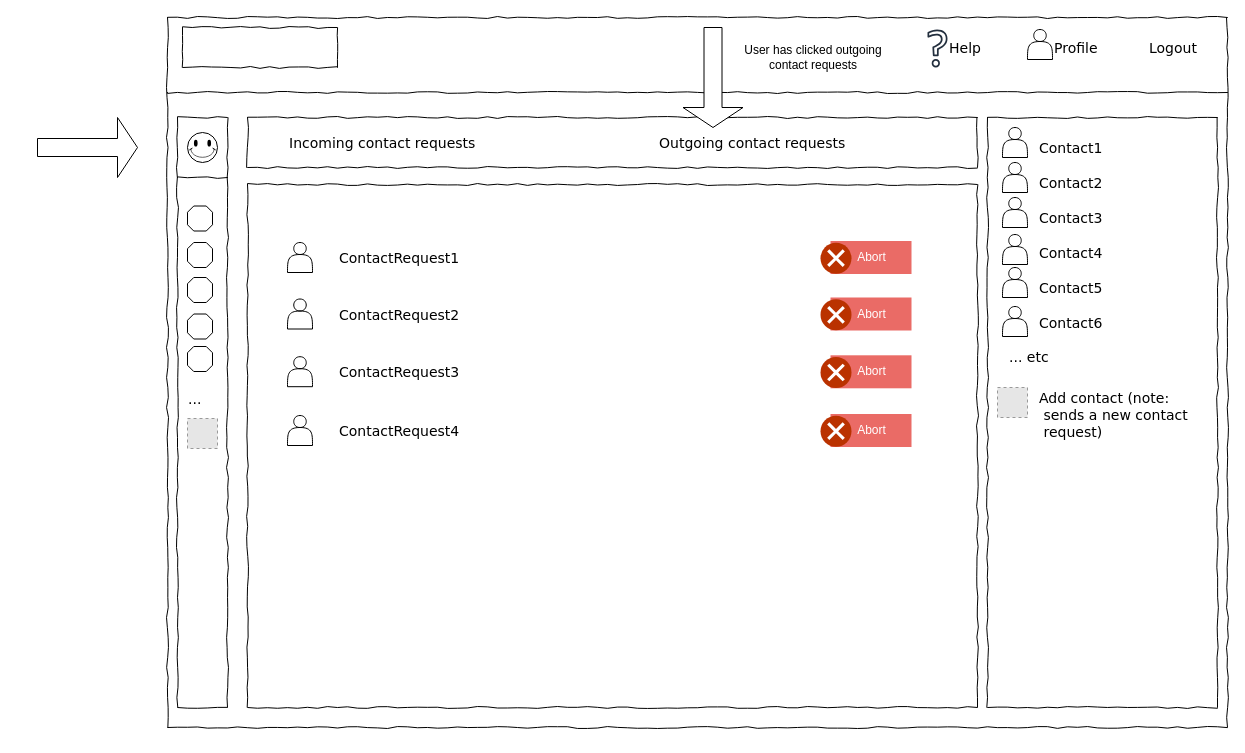
The diagram is 1245 pixels wide and 753 high, and some of its shapes have lost their labels. Grey dashed boxes stand in for pictures. Here are the shapes that lost their labels. From the top down, the centre of each, then its label:
At [260,47]: "LOGO".
At [87,147]: "Contacts view".
